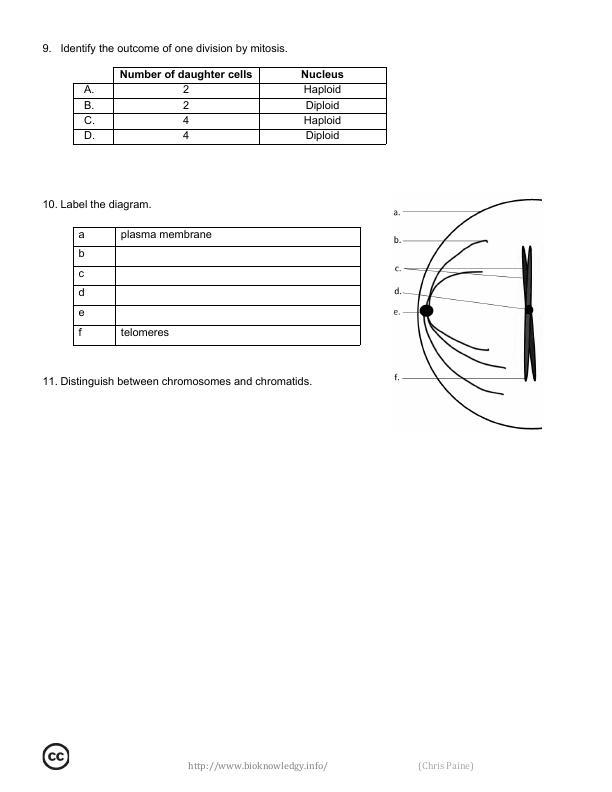table: (66, 222, 368, 351), (65, 63, 395, 151)
text: (41, 370, 317, 393), (37, 38, 290, 55), (41, 194, 157, 214)
